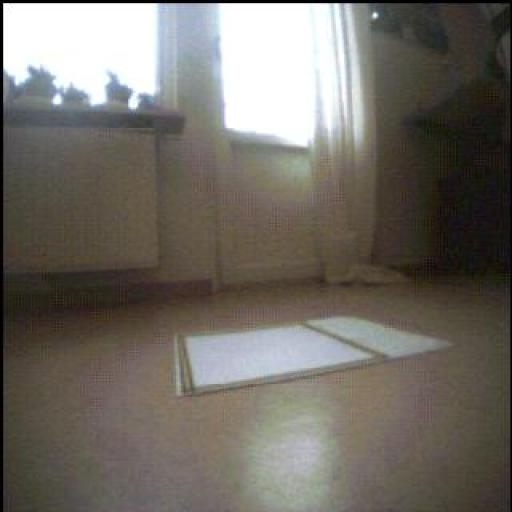Pad: (182, 294, 464, 400)
